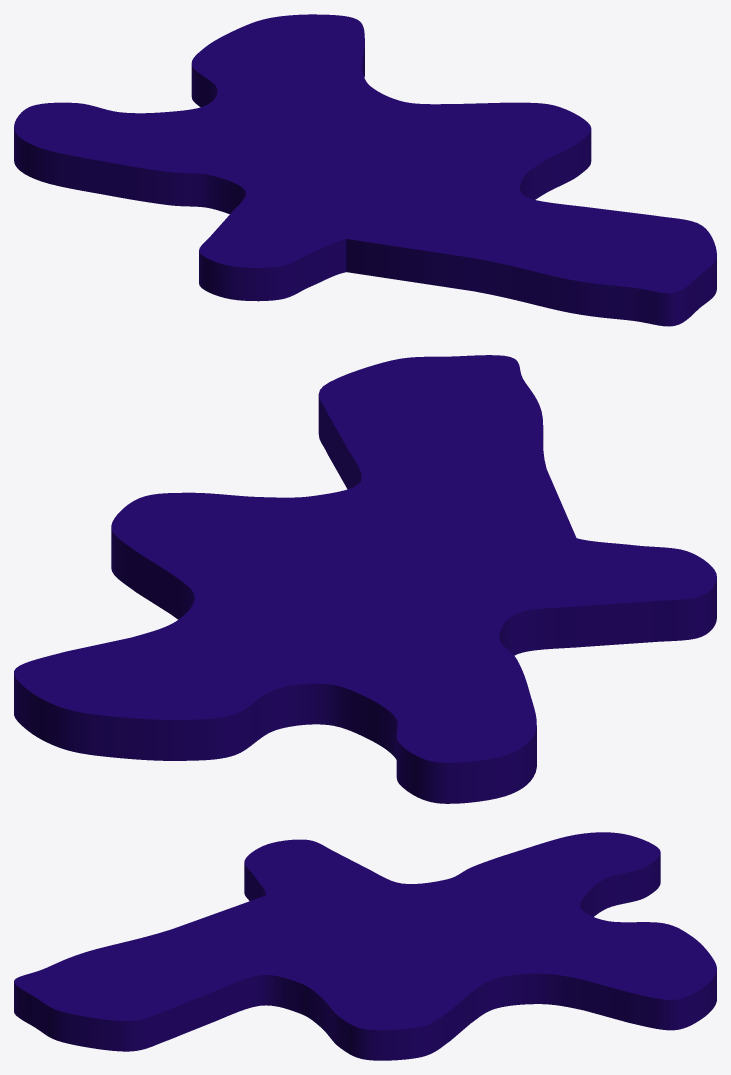
Rendered from Trace1.FBX.
3 renders of one model, top to bottom at view 1: azimuth 30°, elevation 25°; view 2: azimuth 150°, elevation 25°; view 3: azimuth 270°, elevation 25°, orthographic. The views are drawn at different scales.
Visible parts, largest first — view 1: Box015; view 2: Box015; view 3: Box015.
Part boxes in pixels (x1,y1,x2,y2): Box015: (14,14,716,326); Box015: (14,355,716,803); Box015: (14,832,716,1060).
Size of the model in its own units: 986 by 1480 by 70.8.
